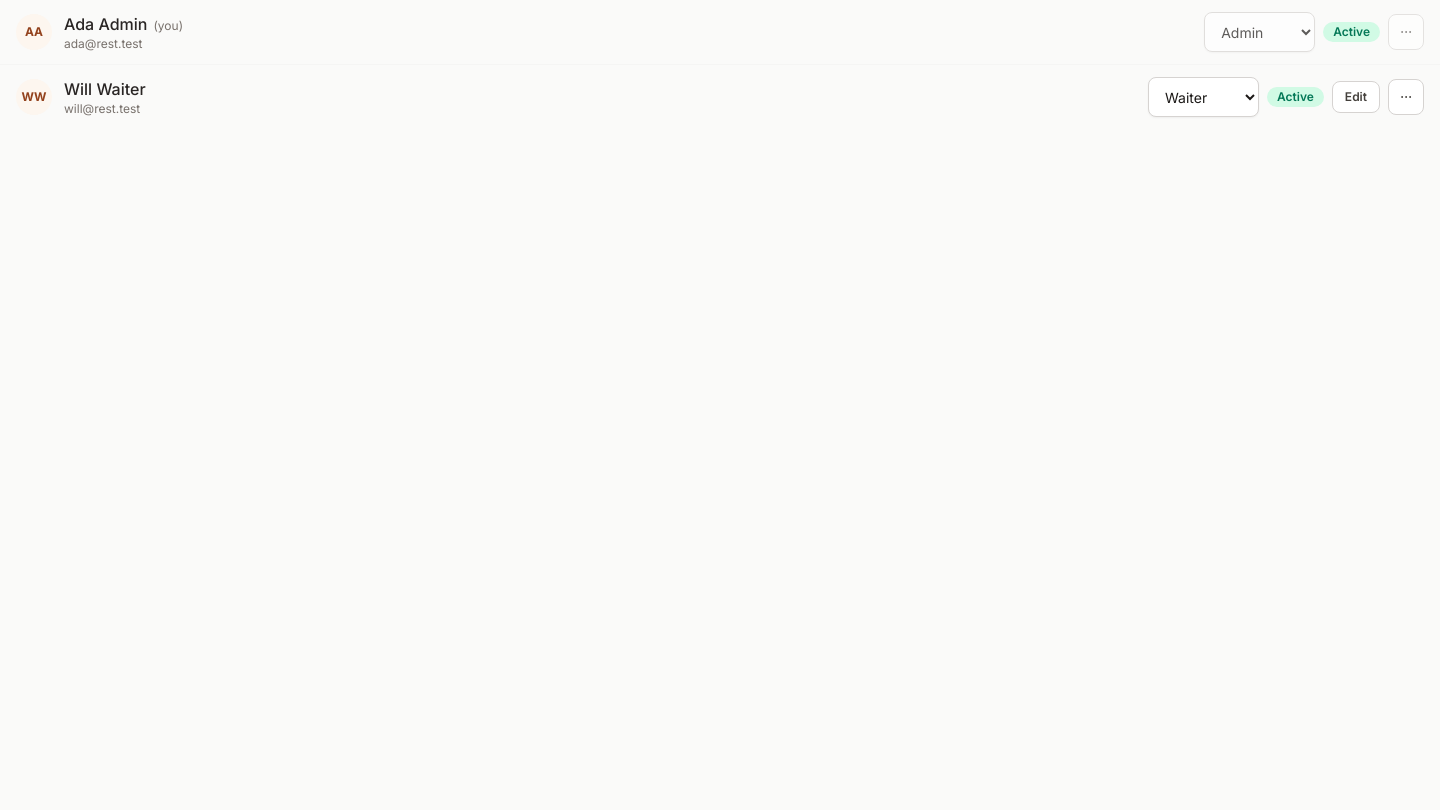
AccountTable › asks for confirmation before changing a role, then reports the new permissions
The width and height of the screenshot is (1440, 810).
Select "Chef" in the dropdown named "Role for Will Waiter" at (1204, 97), box x1=1148 y1=77 x2=1259 y2=117
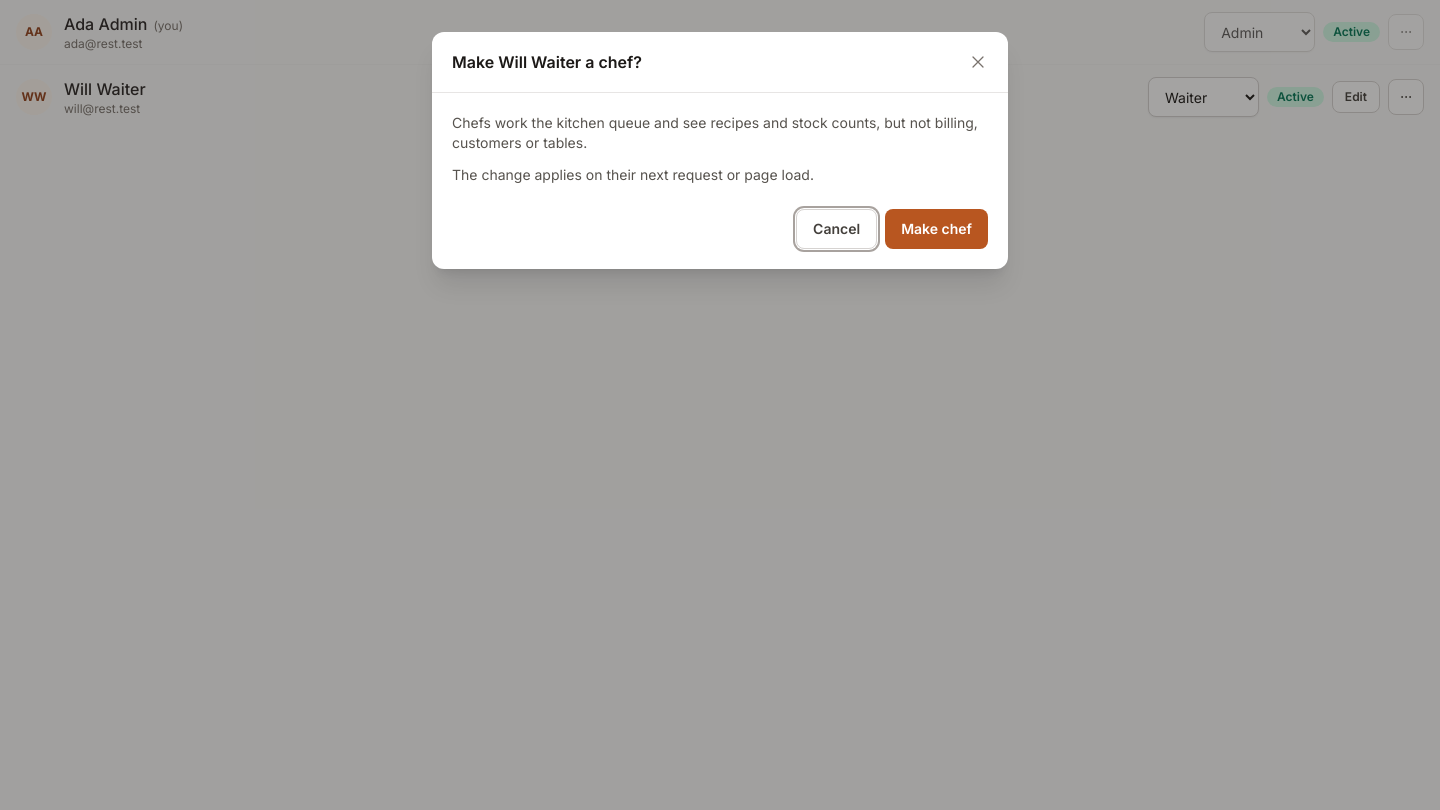
Expected: the dialog "Make Will Waiter a chef?" shows "kitchen queue", x1=452 y1=114 x2=978 y2=151
Click the button "Make chef" at (937, 229), box x1=885 y1=209 x2=988 y2=249
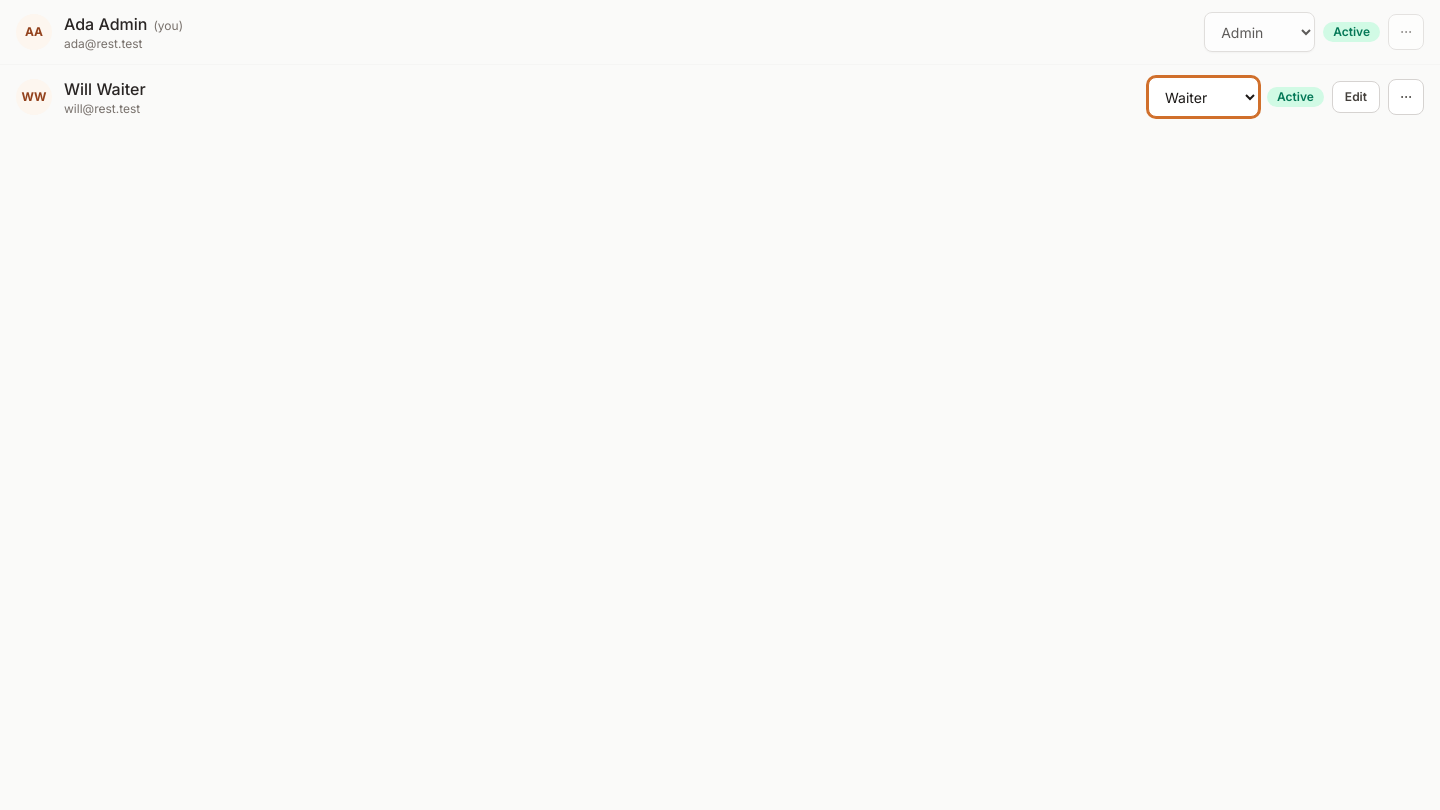
Expected: the dialog is gone
